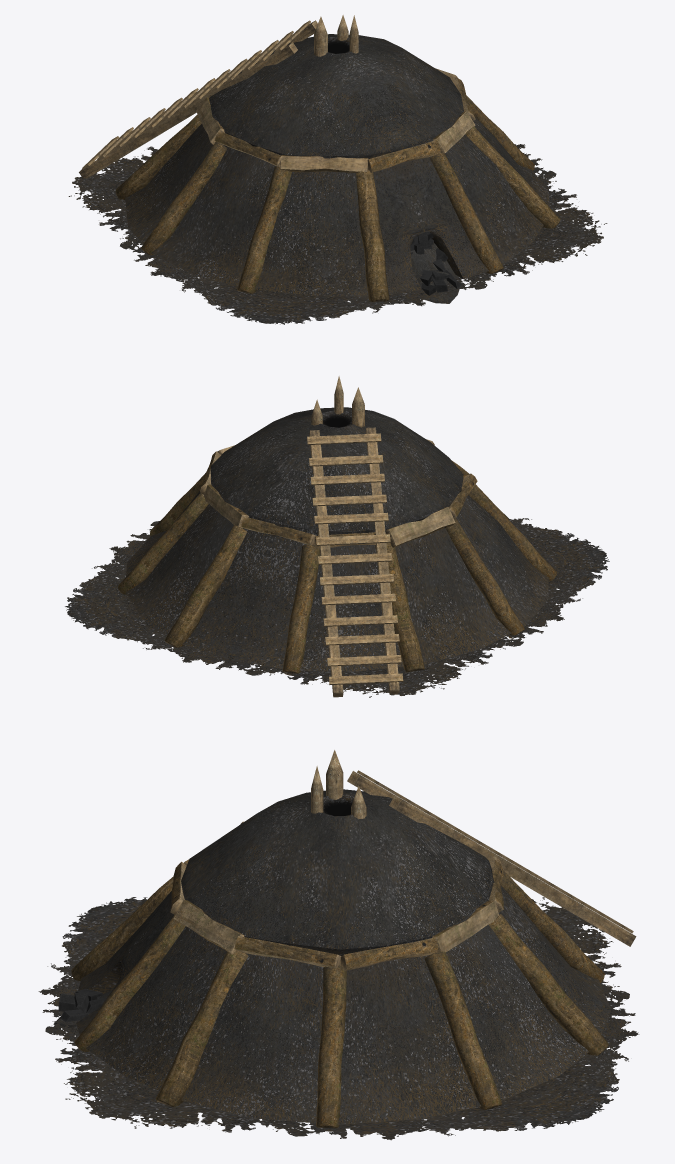
File: CoalerPile_Finished.fbx
The picture shows the model from 3 angles, top to bottom: view 1: azimuth 30°, elevation 25°; view 2: azimuth 150°, elevation 25°; view 3: azimuth 270°, elevation 25°; orthographic projection. The views are drawn at different scales.
Visible parts, largest first — view 1: CoalerPile_Final; view 2: CoalerPile_Final; view 3: CoalerPile_Final.
Boxes of the visible parts, x1,y1,x2,y2 form: CoalerPile_Final: (68, 15, 607, 324); CoalerPile_Final: (65, 376, 609, 697); CoalerPile_Final: (38, 750, 639, 1140).
Size of the model in its own units: 708 by 320 by 708.
